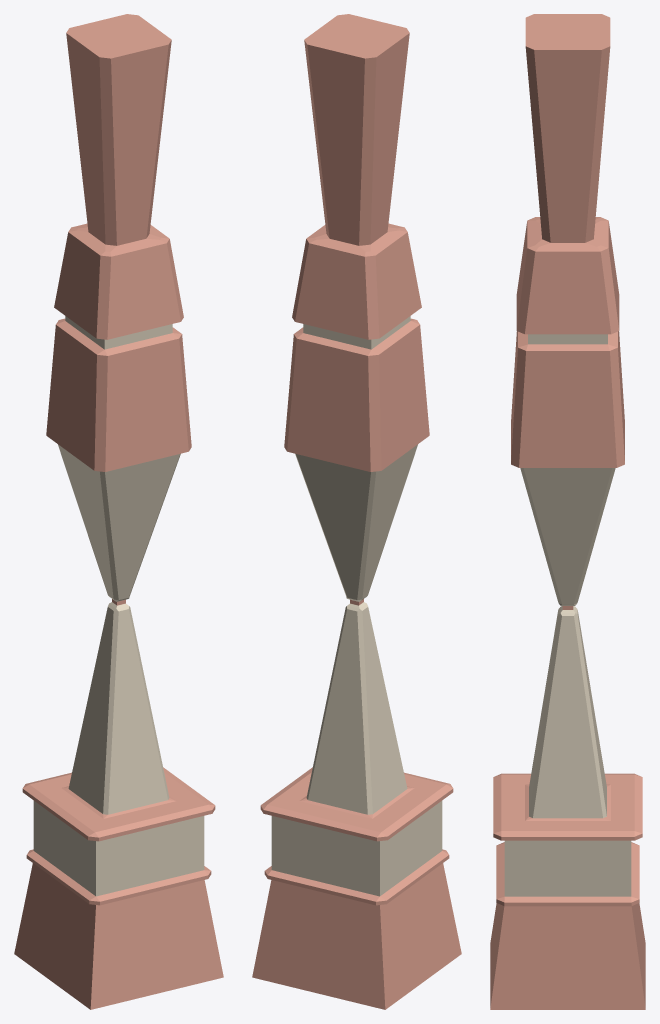
Rendered from Pillar.fbx.
3 views of the same model, side by side, from view 1: azimuth 30°, elevation 25°; view 2: azimuth 150°, elevation 25°; view 3: azimuth 270°, elevation 25° (orthographic).
Parts seen in each view (by area): view 1: Cube; view 2: Cube; view 3: Cube.
Boxes of the visible parts, x1,y1,x2,y2 form: Cube: (14,14,223,1009); Cube: (252,14,461,1009); Cube: (490,14,645,1009).
Size of the model in its own units: 1068 by 7123 by 1062.
